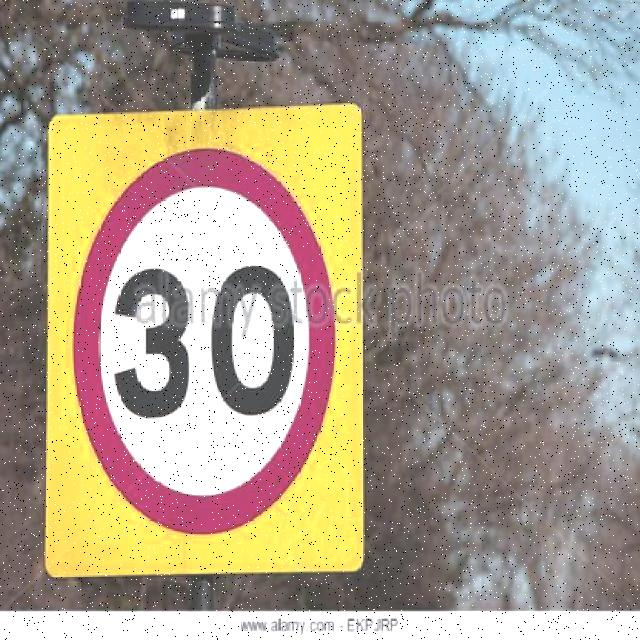Ograniczenie predkosci do 30: (75, 152, 332, 534)
